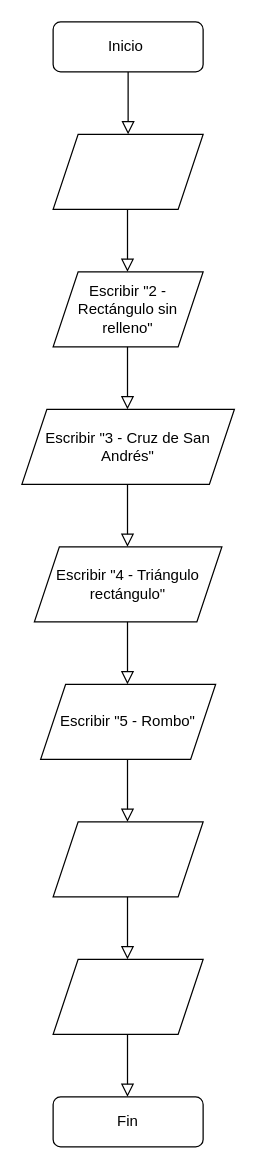
The diagram is 256 pixels wide and 1169 high, and some of its shapes have lost their labels. Each missing label, with the centre of its shape:
Escribir "1 - Rectángulo con relleno": point (127, 171)
Escribir "6 - Ajedrezado": point (127, 859)
Escribir "7 - Salir": point (127, 996)
